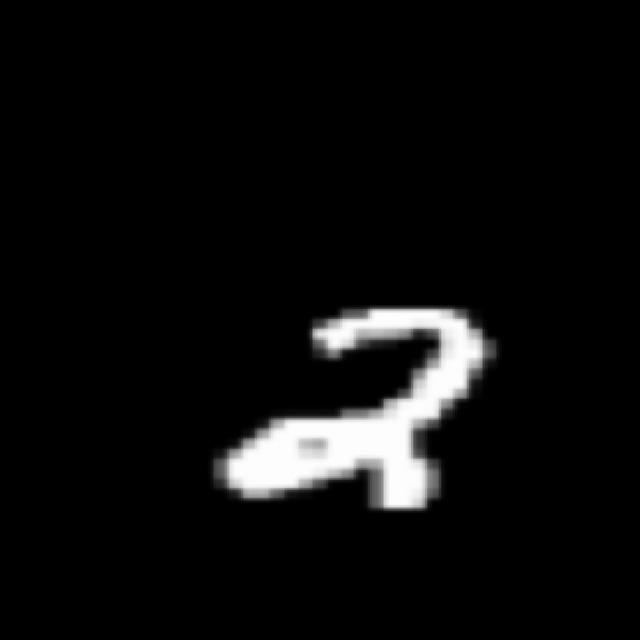two -2-: (218, 304, 498, 522)
